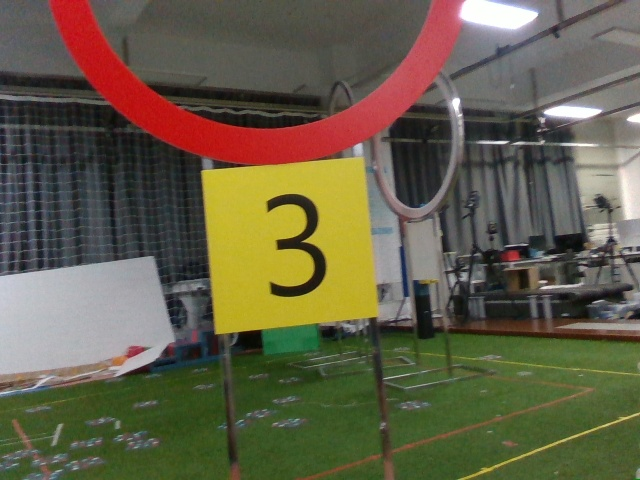target: (204, 166, 374, 326)
